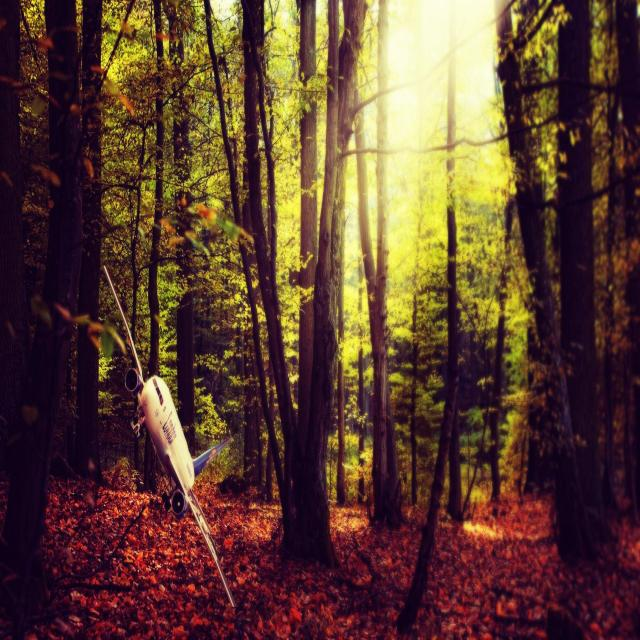airplane: (101, 264, 236, 608)
